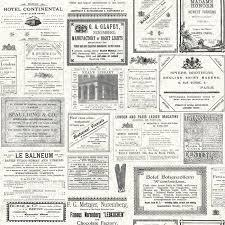Printing industry: (1, 4, 225, 225)
